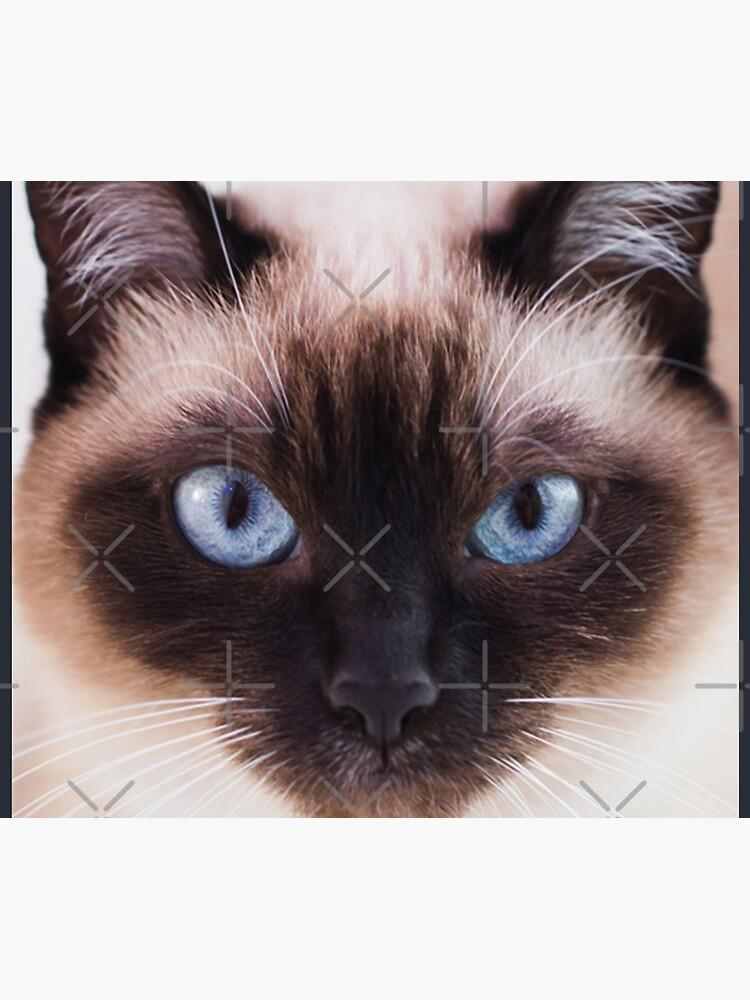siamese: (25, 172, 737, 830)
